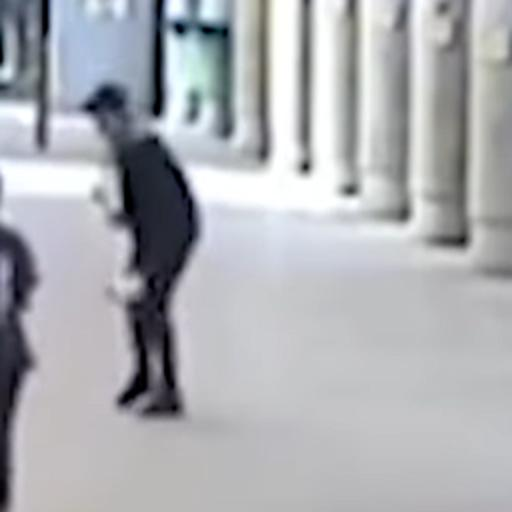Humans: (72, 78, 207, 448), (1, 206, 65, 512)
